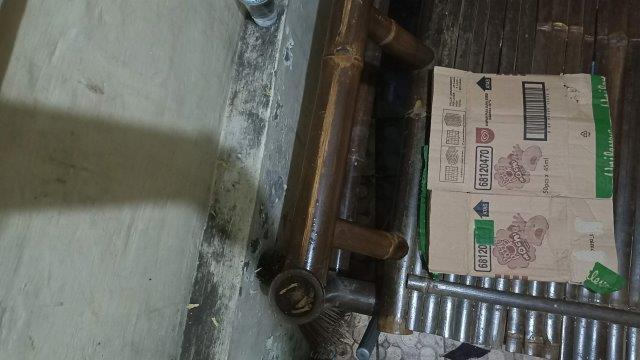kardus: (420, 65, 619, 292)
